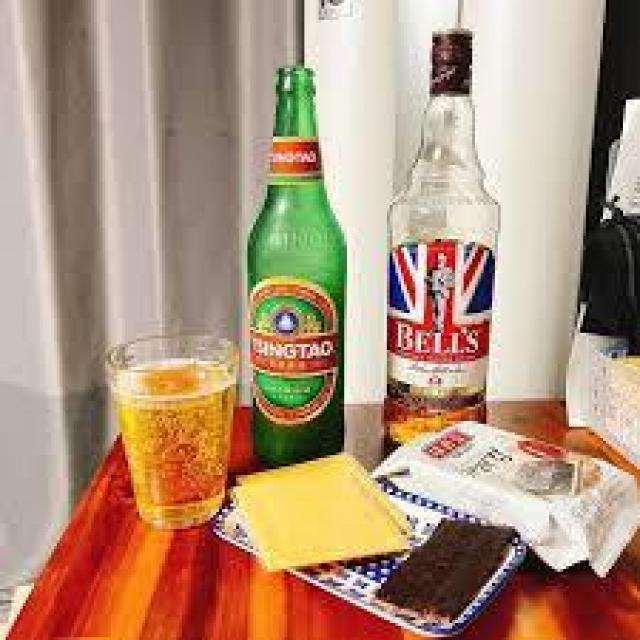beer-bottle: (222, 54, 362, 478)
